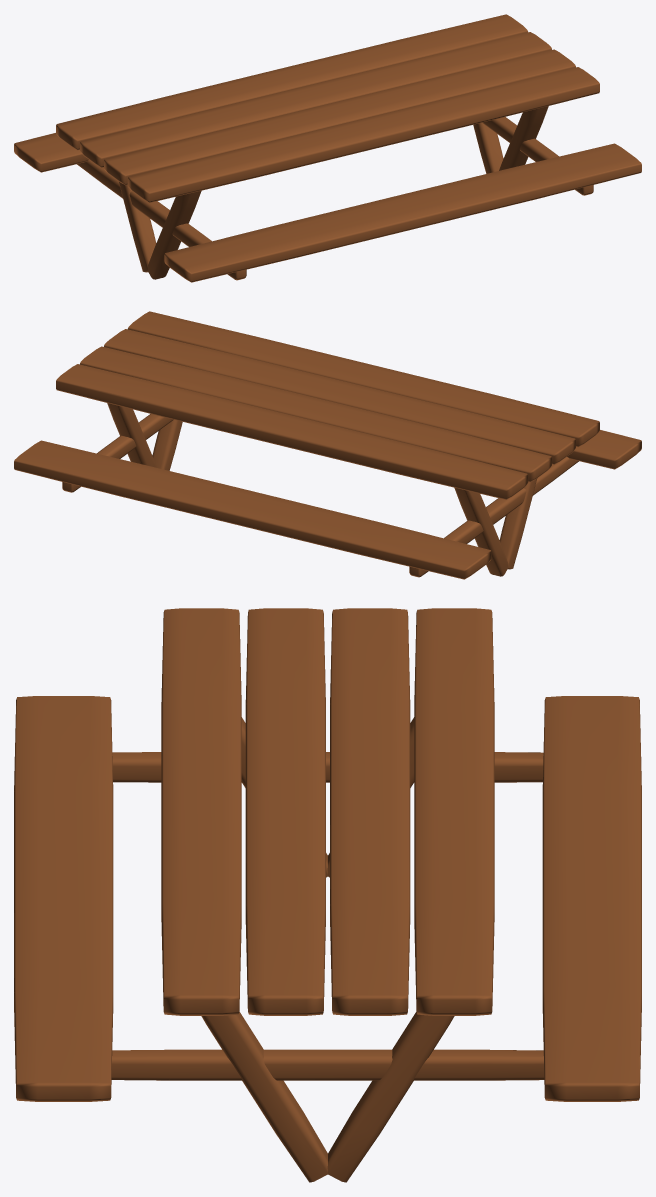
File: PrimeCutTable.obj
3 views of the same model, one above another, from view 1: azimuth 30°, elevation 25°; view 2: azimuth 150°, elevation 25°; view 3: azimuth 270°, elevation 25° (orthographic). The views are drawn at different scales.
Visible parts, largest first — view 1: Wood; view 2: Wood; view 3: Wood.
Part boxes in pixels (<box>): Wood: <box>14,14,641,282</box>; Wood: <box>14,311,641,579</box>; Wood: <box>14,608,641,1182</box>.
Bounding box in the file's own units: 12 × 3.31 × 8.2.
